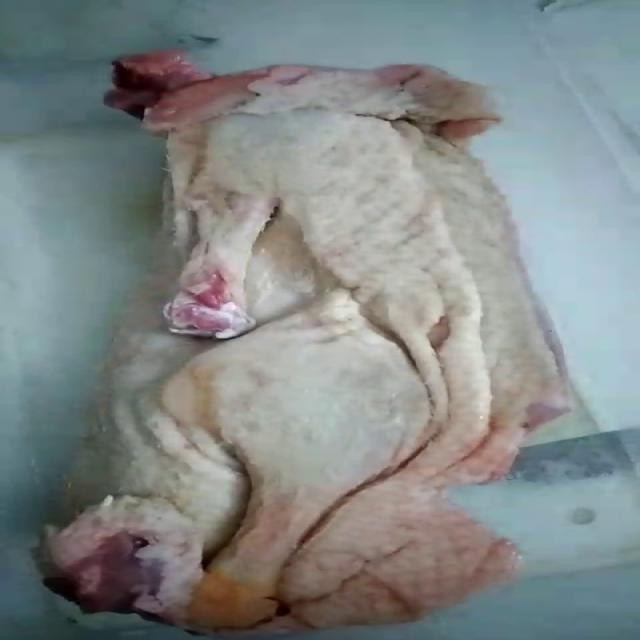chicken: (36, 47, 577, 636)
